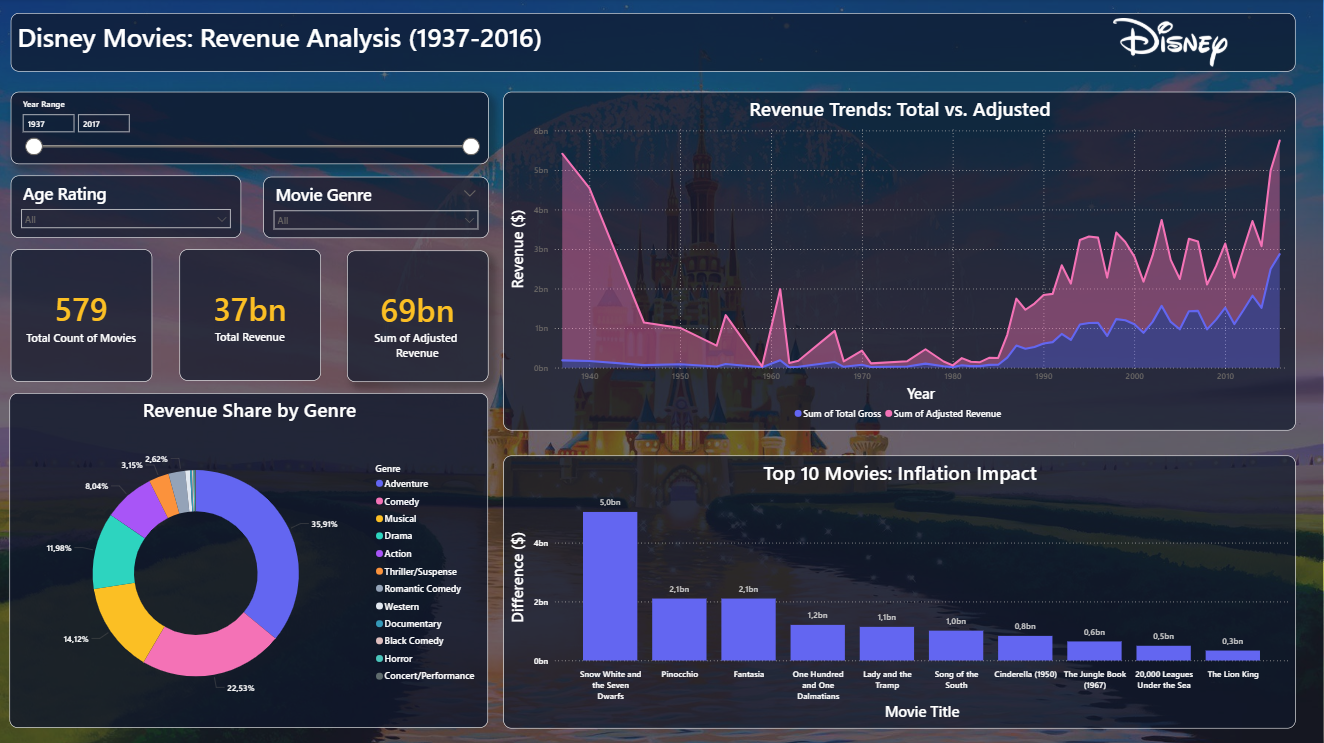

The page's visual inventory and layout, read from the dashboard file:
{"tool":"powerbi","page":{"name":"Page 1","canvas":[1920,1080],"ordinal":0},"visuals":[{"type":"card","fields":{"Values":["Disney Movies.Total Count of Movies"]},"box":[507.2,362.3,204.7,192],"z":0},{"type":"card","title":"Łączny przychód","fields":{"Values":["Disney Movies.Total Gross for all the Movies"]},"box":[264.5,364.1,204.7,190.2],"z":1000},{"type":"card","title":"Adjusted Revenue","fields":{"Values":["Sum(Disney Movies.Inflation Adjusted Gross)"]},"box":[19.9,362.3,204.7,190.2],"z":2000},{"type":"donutChart","title":"Revenue Share by Genre","fields":{"Category":["Disney Movies.Genre"],"Y":["Disney Movies.Genre Gross (Excluding Unknown)"]},"box":[20,572.5,692.5,485],"z":3000},{"type":"columnChart","title":"Top 10 Movies: Inflation Impact","fields":{"Y":["Sum(Disney Movies.Difference)"],"Category":["Disney Movies.Title with Year"]},"box":[732.5,662.5,1147.5,395],"z":4000},{"type":"slicer","fields":{"Values":["Disney Movies.Date Released.Variation.Date Hierarchy.Year"]},"box":[19.9,135.8,691.9,105.1],"z":5000},{"type":"slicer","fields":{"Values":["Disney Movies.Genre"]},"box":[385.8,259,326,88.8],"z":6000},{"type":"areaChart","title":"Revenue Trends: Total vs. Adjusted","fields":{"Category":["Disney Movies.Date Released.Variation.Date Hierarchy.Year"],"Y":["Sum(Disney Movies.Total Gross)","Sum(Disney Movies.Inflation Adjusted Gross)"]},"box":[732.5,135,1147.5,490],"z":7000},{"type":"slicer","fields":{"Values":["Disney Movies.MPA Rating"]},"box":[19.9,257.2,333.3,90.6],"z":8000},{"type":"textbox","box":[20,23.3,1860,71.7],"z":9000},{"type":"image","box":[1545.1,21.7,266.3,85.1],"z":10000}]}

Visuals, with their boxes in screenshot pixels (x1, y1, x2, y2), scaled from the page's 1920x1080 canvas onto the 1324x743 screenshot:
card - Disney Movies.Total Count of Movies: [350,249,491,381]
"Łączny przychód" card: [182,250,324,381]
"Adjusted Revenue" card: [14,249,155,380]
"Revenue Share by Genre" donutChart: [14,394,491,728]
"Top 10 Movies: Inflation Impact" columnChart: [505,456,1296,728]
slicer - Disney Movies.Date Released.Variation.Date Hierarchy.Year: [14,93,491,166]
slicer - Disney Movies.Genre: [266,178,491,239]
"Revenue Trends: Total vs. Adjusted" areaChart: [505,93,1296,430]
slicer - Disney Movies.MPA Rating: [14,177,244,239]
textbox: [14,16,1296,65]
image: [1065,15,1249,73]
